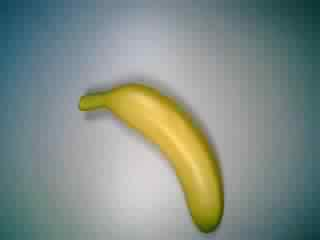banana: (77, 79, 232, 233)
